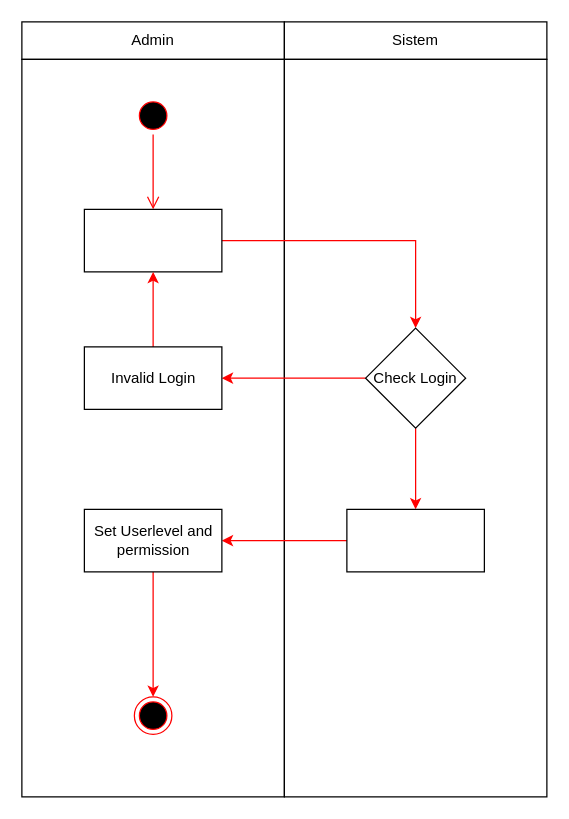
Some shapes in this 569 by 819 pixel diagram are drawn without their labels. The shapes that lost their labels are listed below. From the top down, each one's box as (x1, y1, x2, y2) in pixels, then its label:
(83, 208, 222, 272): Login
(346, 508, 484, 572): Login Success
